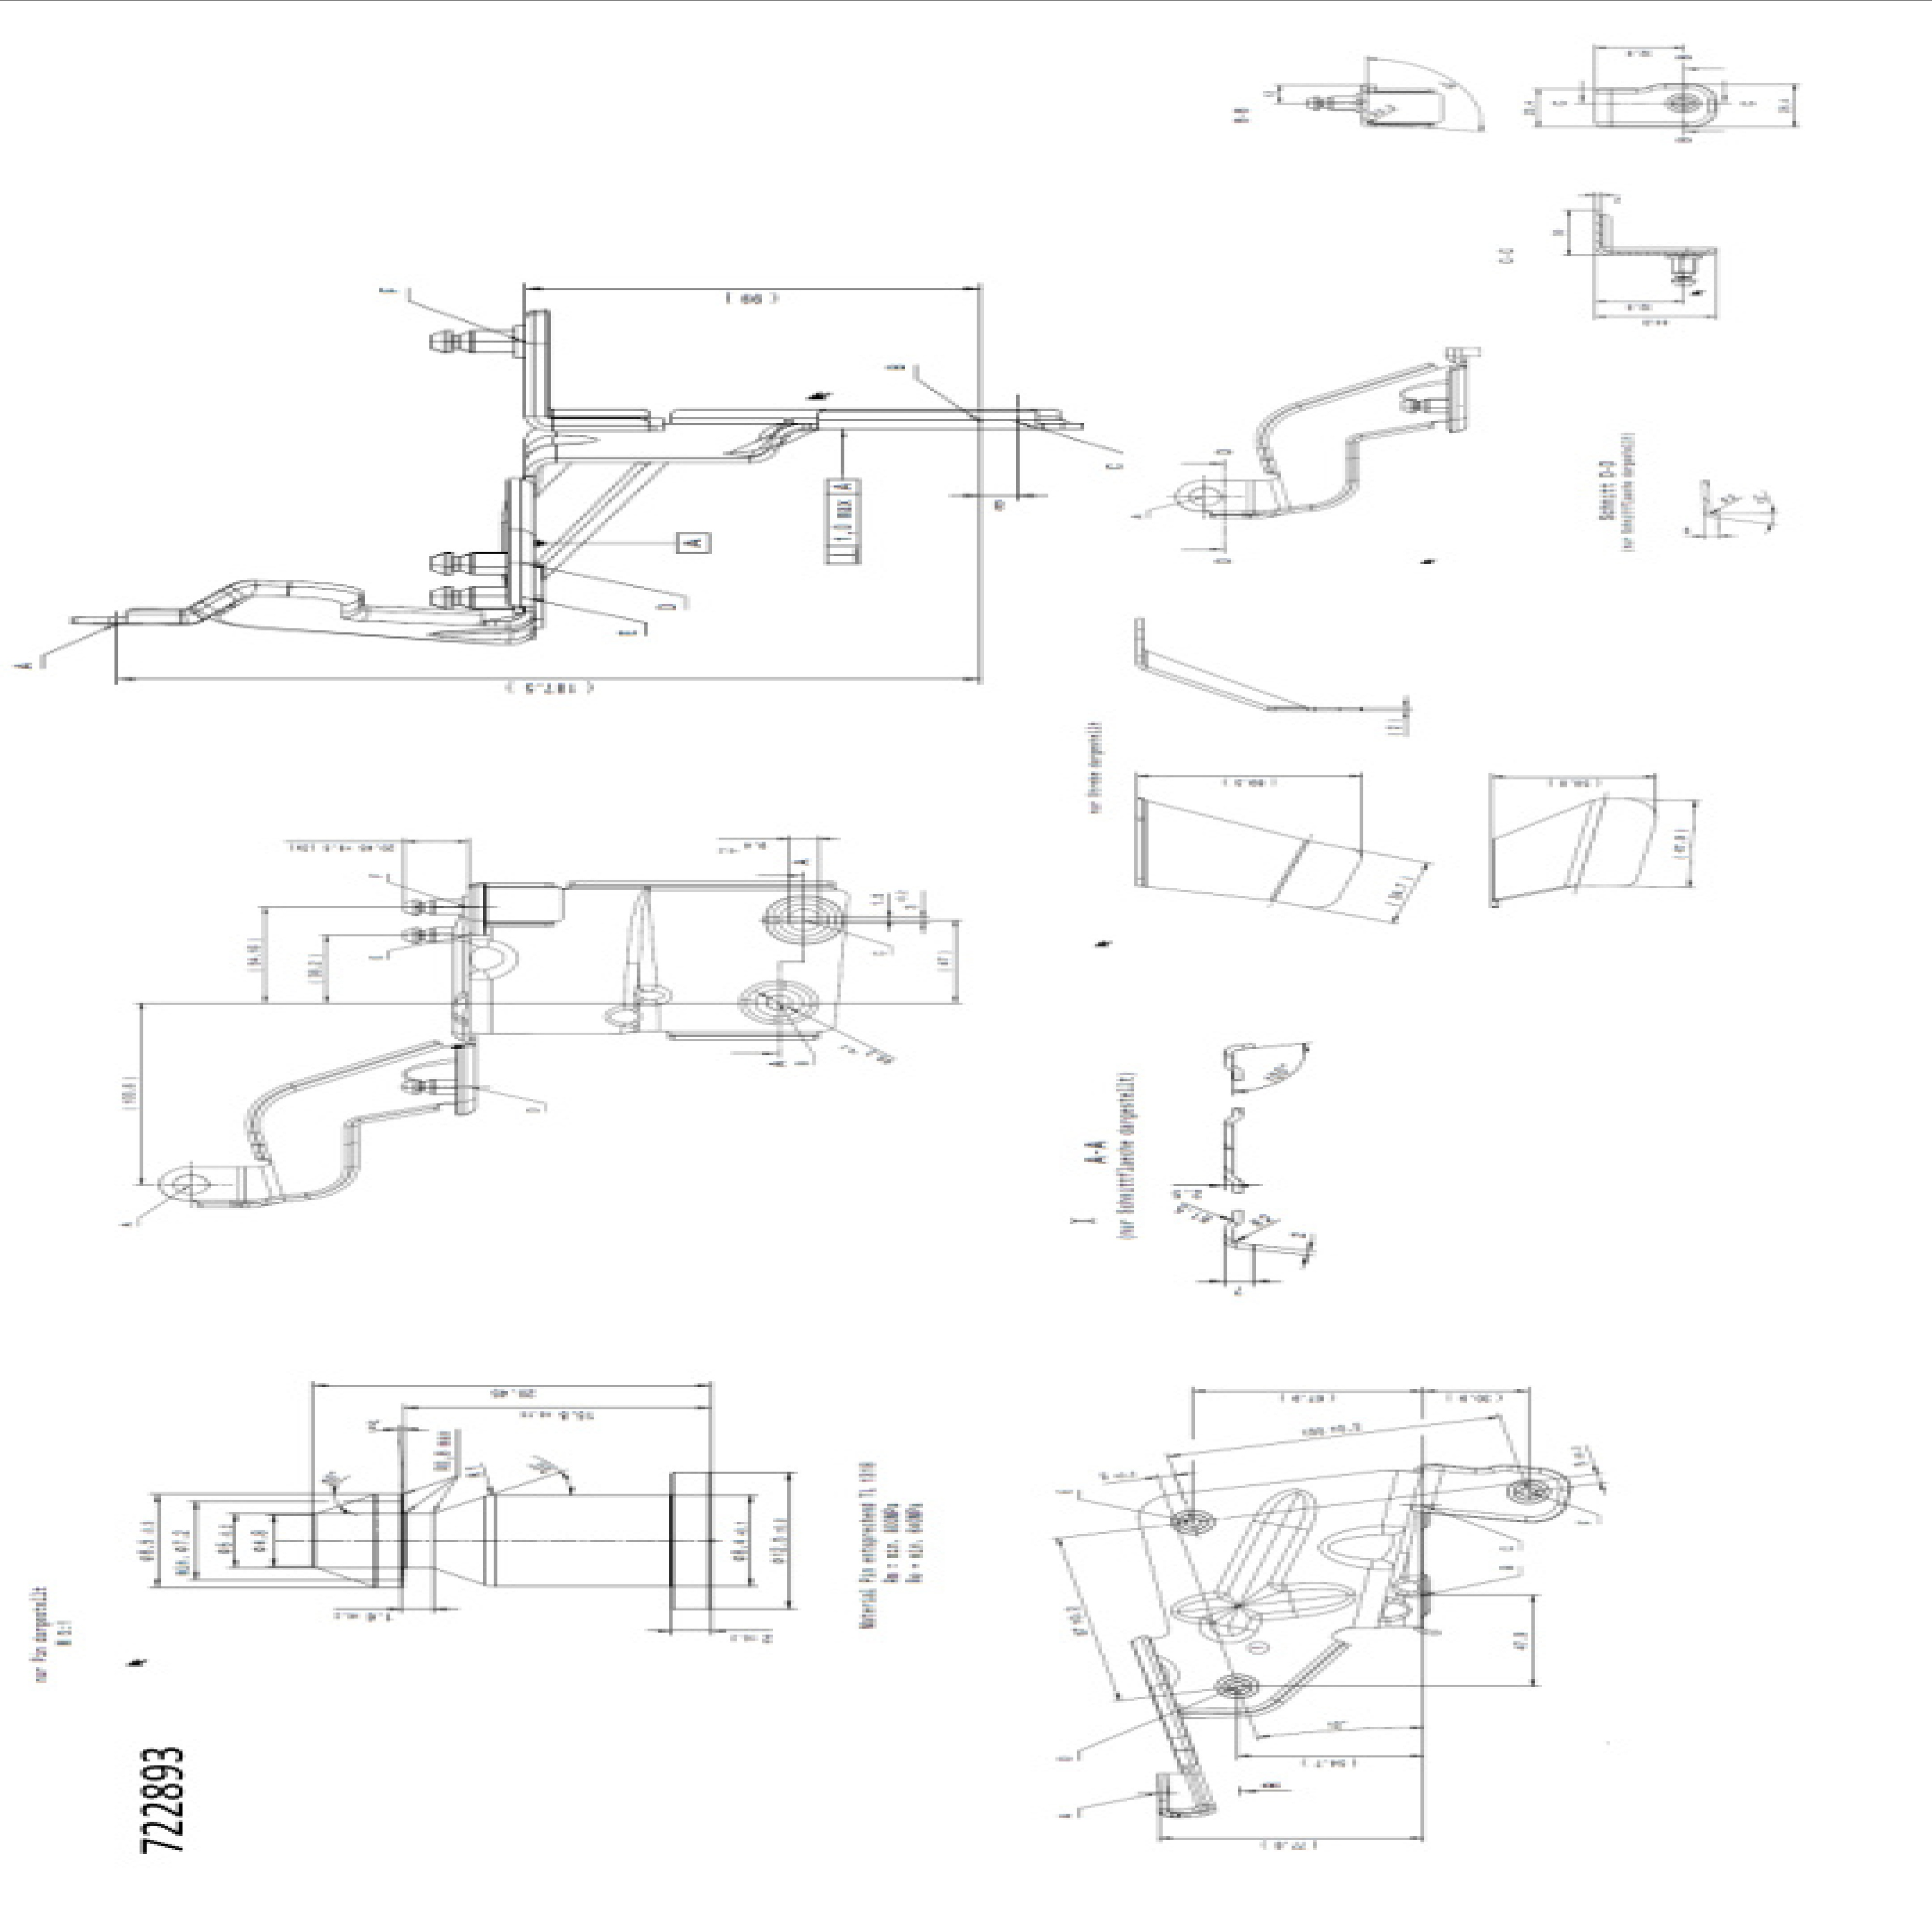Embossment: (1210, 1470, 1330, 1621)
Reinforcement: (1313, 1520, 1407, 1571), (469, 938, 522, 984), (1154, 1651, 1185, 1691), (603, 1005, 640, 1030), (637, 980, 674, 1005), (1380, 1594, 1414, 1621), (1389, 1571, 1421, 1592)
